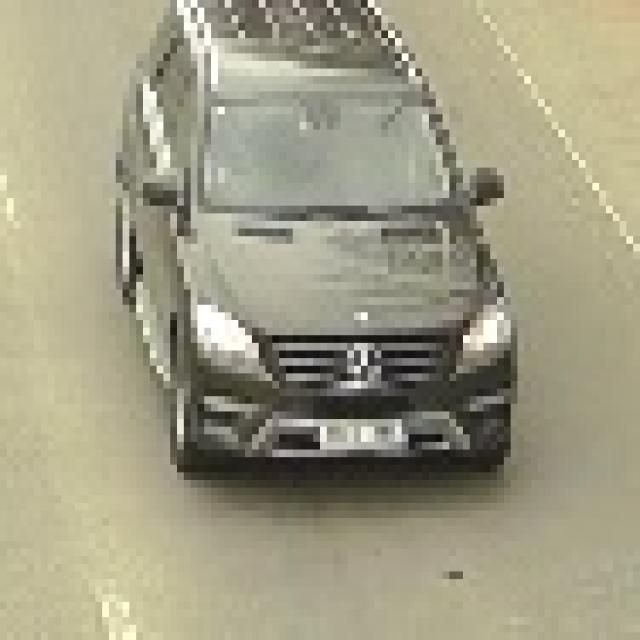SUV: (120, 1, 507, 478)
